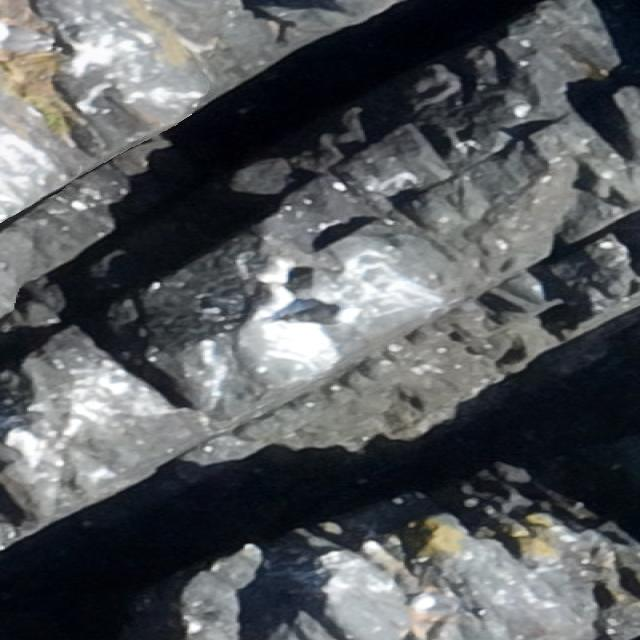umineko: (5, 32, 53, 52)
